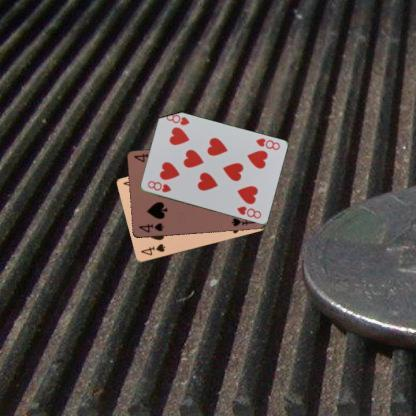4s: (136, 220, 165, 235), (138, 242, 166, 256)
8h: (145, 178, 172, 194), (254, 136, 281, 152)
